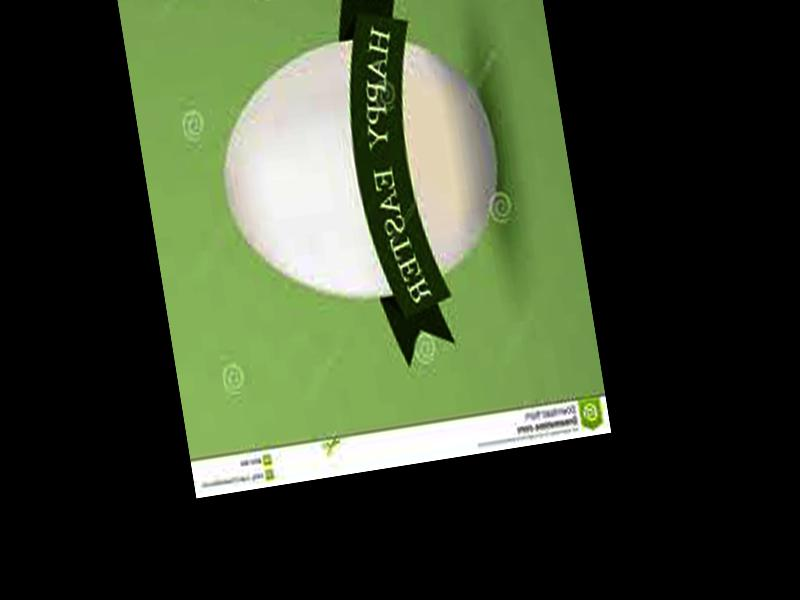Eggs: (206, 23, 514, 320)
